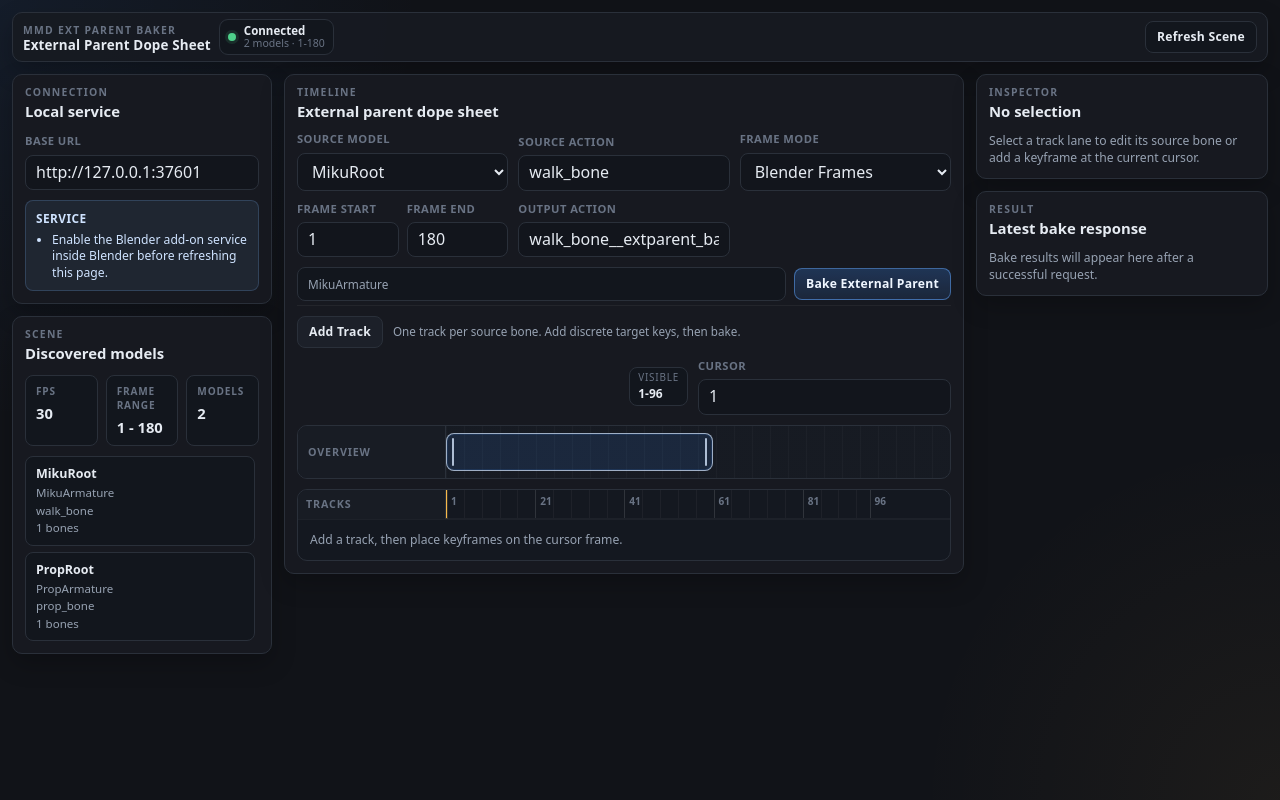
Test case: BakerPage timeline workflow › updates the timeline marker when the inspector frame changes
Expected: the field showing "walk_bone" is shown, left=518, top=155, right=730, bottom=190
Click the button "Add Track". click: (340, 332)
box: left=297, top=316, right=383, bottom=348
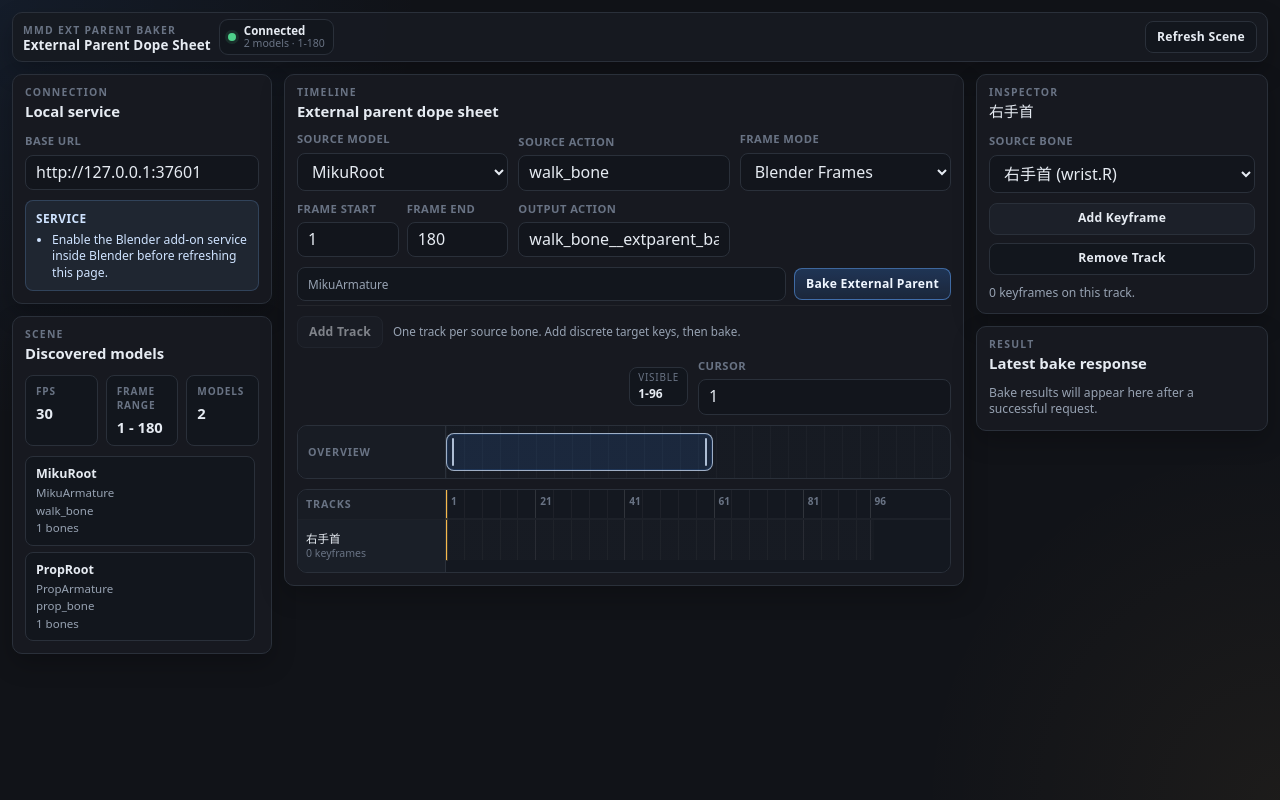
Click the button "Add Keyframe". click: (1122, 218)
box: left=989, top=202, right=1255, bottom=234
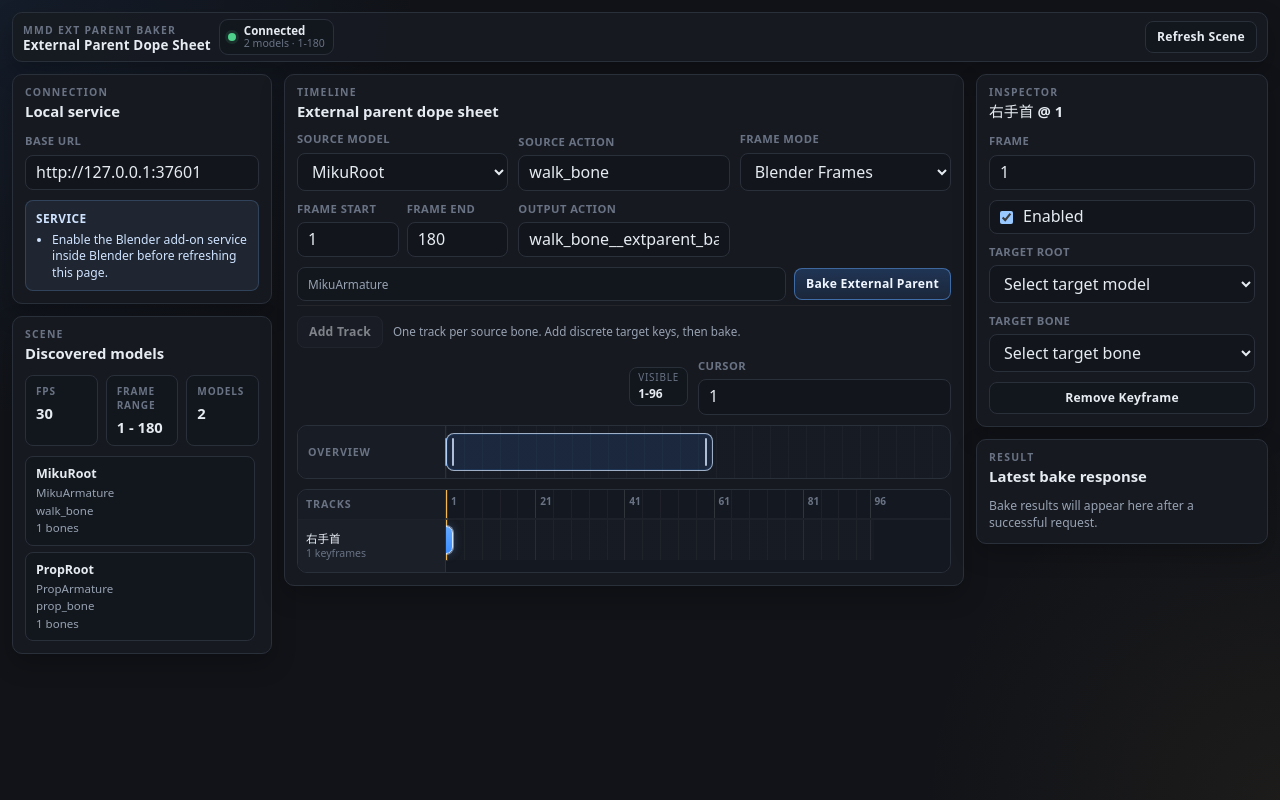
Replace the text in the number field labelled "Frame" with "12". click: (1122, 172)
box: left=989, top=154, right=1255, bottom=190
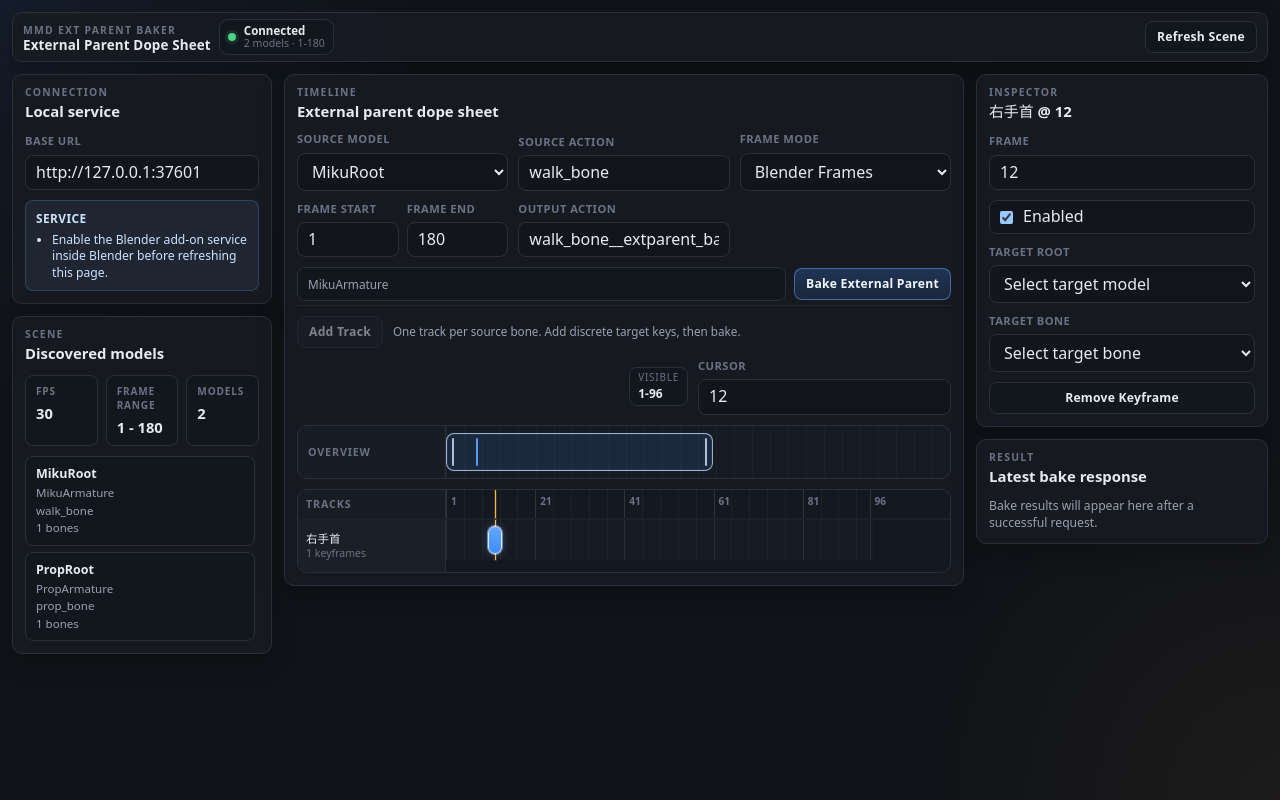
Expected: the button named "Keyframe 12" is shown, left=488, top=526, right=502, bottom=554
